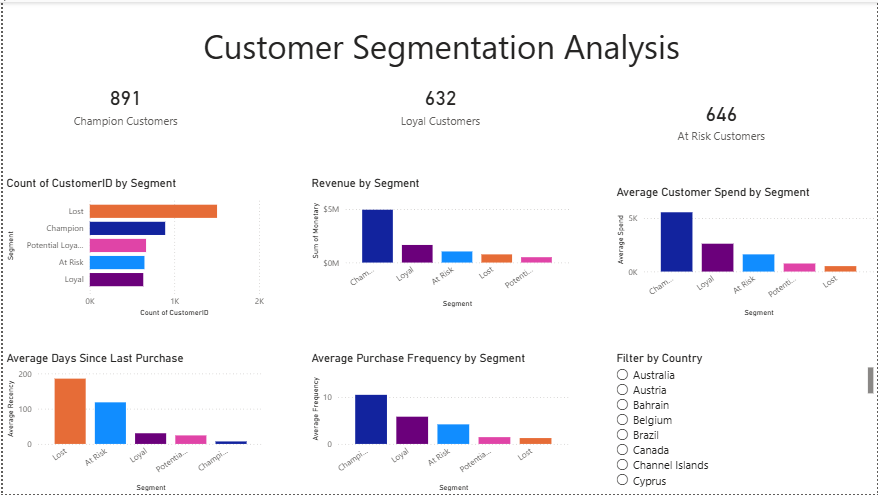

The page's visual inventory and layout, read from the dashboard file:
{"tool":"powerbi","page":{"name":"Page 2","canvas":[1280,720],"ordinal":1},"visuals":[{"type":"card","fields":{"Values":["customer_segments.At Risk Customers"]},"box":[910,45,281.7,253.3],"z":0},{"type":"card","fields":{"Values":["customer_segments.Loyal Customers"]},"box":[501.7,53.3,276.7,193.3],"z":1000},{"type":"card","fields":{"Values":["customer_segments.Champion Customers"]},"box":[40,75,280,150],"z":2000},{"type":"textbox","box":[288.3,26.7,736.7,95],"z":3000},{"type":"clusteredBarChart","title":"Count of CustomerID by Segment","fields":{"Category":["customer_segments.Segment"],"Y":["CountNonNull(customer_segments.CustomerID)"]},"box":[0,255,386.7,210],"z":4000},{"type":"clusteredColumnChart","title":"Revenue by Segment","fields":{"Category":["customer_segments.Segment"],"Y":["Sum(customer_segments.Monetary)"]},"box":[446.7,255,386.7,196.7],"z":5000},{"type":"clusteredColumnChart","title":"Average Customer Spend by Segment","fields":{"Category":["customer_segments.Segment"],"Y":["customer_segments.Average Spend"]},"box":[893.3,268.3,386.7,196.7],"z":6000},{"type":"clusteredColumnChart","title":"Average Days Since Last Purchase","fields":{"Category":["customer_segments.Segment"],"Y":["customer_segments.Average Recency"]},"box":[0,510,386.7,210],"z":7000},{"type":"clusteredColumnChart","title":"Average Purchase Frequency by Segment","fields":{"Category":["customer_segments.Segment"],"Y":["customer_segments.Average Frequency"]},"box":[447,510,387,210],"z":8000},{"type":"listSlicer","title":"Filter by Country","fields":{"Values":["retail_transactions_clean.Country"]},"box":[893.3,510,386.7,210],"z":9000}]}

Visuals, with their boxes in screenshot pixels (x1, y1, x2, y2), scaled from the page's 1280x720 canvas onto the 878x495 screenshot:
card - customer_segments.At Risk Customers: 624/31/817/205
card - customer_segments.Loyal Customers: 344/37/534/170
card - customer_segments.Champion Customers: 27/52/220/155
textbox: 198/18/703/84
"Count of CustomerID by Segment" clusteredBarChart: 0/175/265/320
"Revenue by Segment" clusteredColumnChart: 306/175/572/311
"Average Customer Spend by Segment" clusteredColumnChart: 613/184/877/320
"Average Days Since Last Purchase" clusteredColumnChart: 0/351/265/494
"Average Purchase Frequency by Segment" clusteredColumnChart: 307/351/572/494
"Filter by Country" listSlicer: 613/351/877/494
